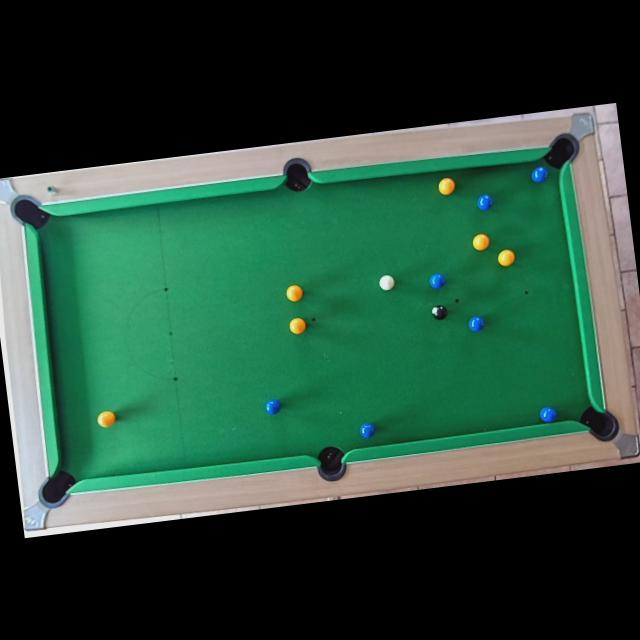Ball: (288, 316, 308, 336), (96, 409, 116, 428), (471, 232, 490, 252), (530, 164, 550, 183), (437, 176, 456, 195), (538, 404, 556, 424), (285, 284, 304, 302), (496, 248, 515, 266), (377, 274, 395, 292), (358, 421, 376, 439), (476, 194, 494, 212), (430, 304, 448, 321), (466, 316, 484, 332), (264, 398, 280, 415), (428, 274, 444, 290)
